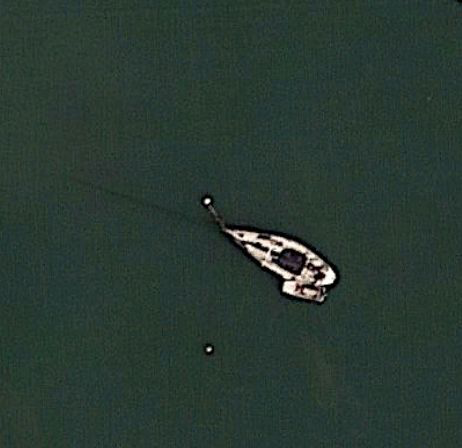boat: (215, 217, 339, 302)
